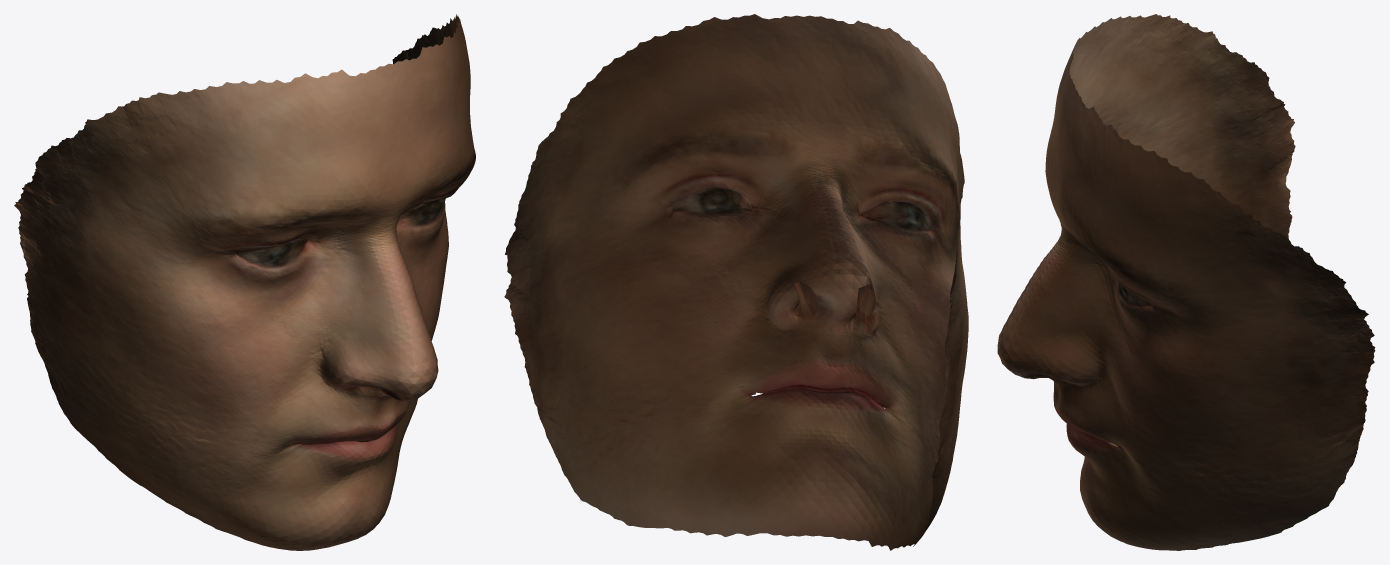
File: 2_fsmm_face.obj
3 views of the same model, side by side, from view 1: azimuth 30°, elevation 25°; view 2: azimuth 150°, elevation 25°; view 3: azimuth 270°, elevation 25° (orthographic). The views are drawn at different scales.
Size of the model in its own units: 1.5 by 1.74 by 1.27.
